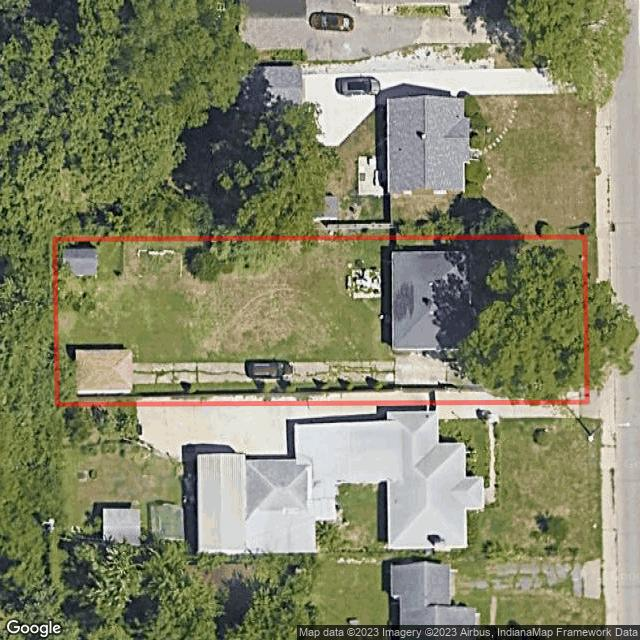Driveway: (132, 351, 583, 387)
Extra Driveway: (590, 355, 601, 389)
Extra Lawn: (588, 236, 599, 355)
Extra Sidewalk: (599, 237, 615, 403)
House: (391, 250, 471, 351)
Other: (77, 349, 132, 394), (346, 268, 381, 299), (62, 248, 98, 276)
